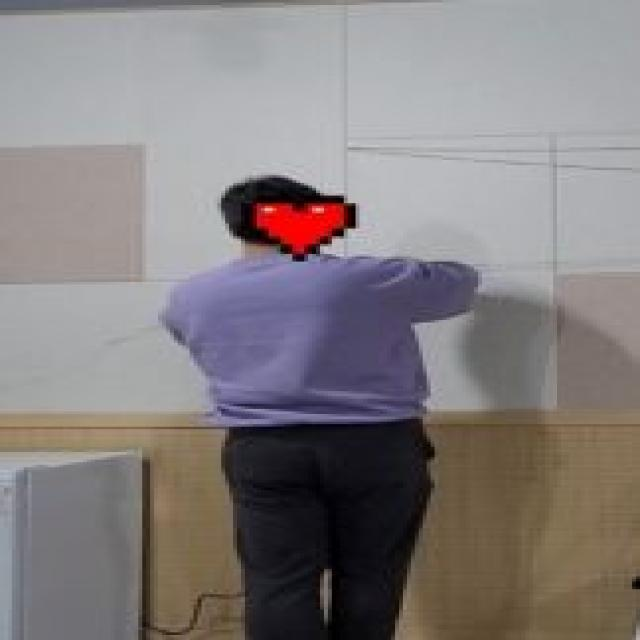denimpants: (225, 425, 429, 640)
mtm: (159, 253, 474, 420)
